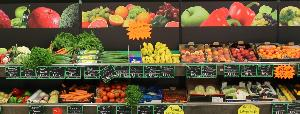apricot: (256, 43, 300, 60)
banana: (138, 40, 180, 63)
bell_pepper: (11, 84, 34, 106)
carrot: (59, 82, 95, 103)
cucumber: (97, 47, 128, 64), (52, 51, 74, 68)
melon: (186, 80, 222, 98)
peach: (206, 45, 234, 63), (232, 44, 258, 63), (182, 46, 206, 66)
tomato: (98, 80, 128, 108), (164, 86, 188, 105)
